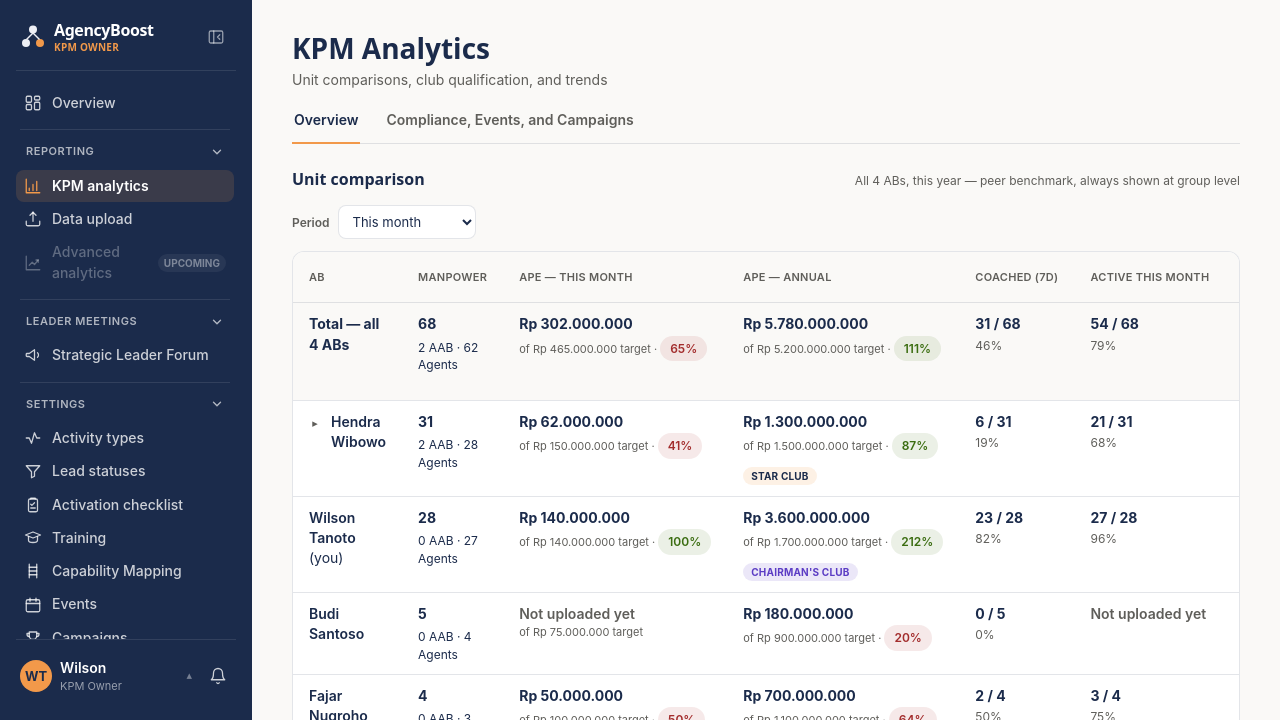
Scenario: KPM analytics (P18-T2) › AC-2 the table, verbatim › expands an agency into its (Direct) row tagged AB and its AAB rows tagged AAB, with a button saying so
The image size is (1280, 720).
Check: the element "Hendra Wibowo (Direct)" is not shown
Click the button named "Units in Hendra Wibowo’s agency": (315, 424) [303, 412, 327, 436]
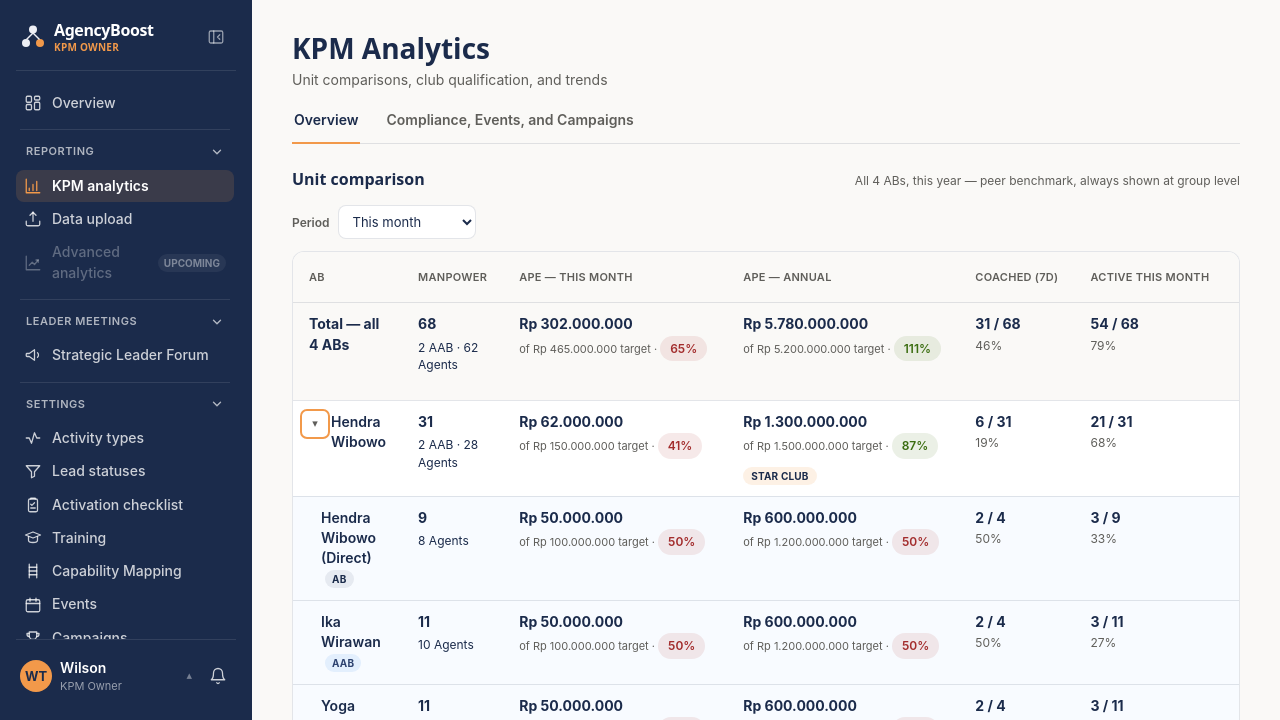
Check: the button named "Units in Hendra Wibowo’s agency" is expanded
Check: the text "AB" is shown, box [325, 570, 354, 588]
Check: the text "8 Agents" is shown, box [418, 533, 469, 548]
Click the button named "Units in Hendra Wibowo’s agency": (315, 424) [303, 412, 327, 436]
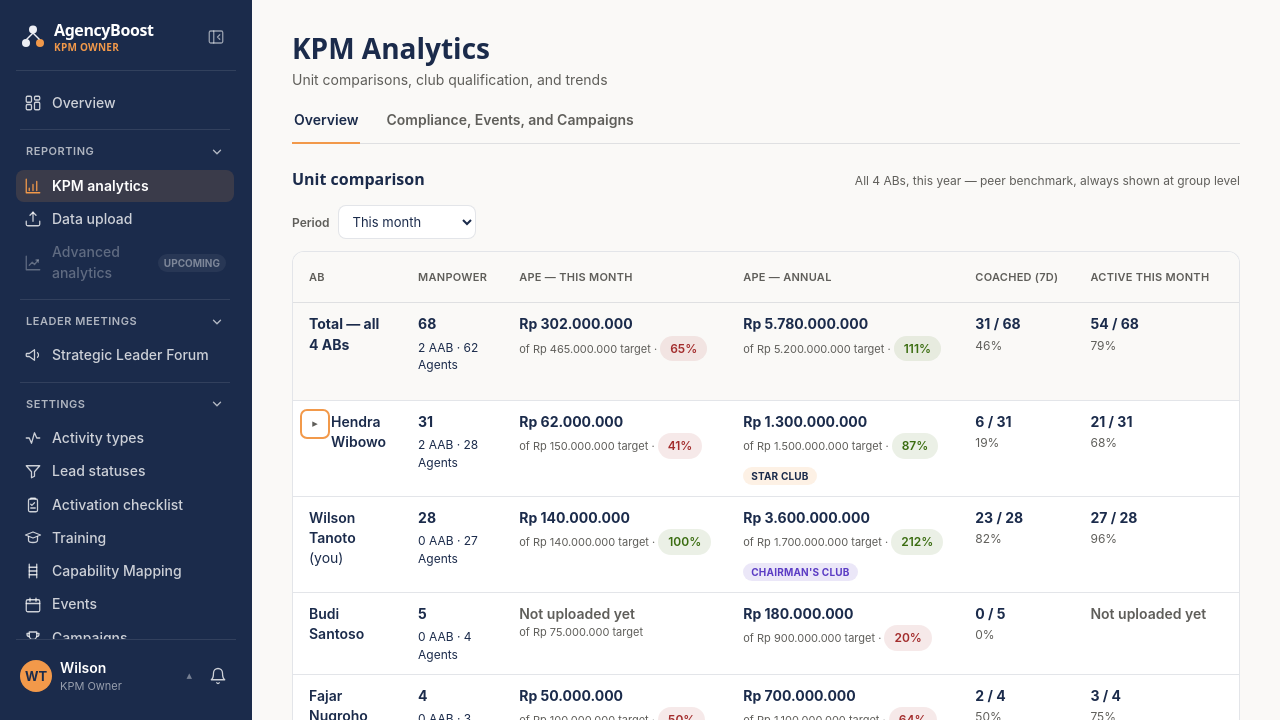
Check: the link "Hendra Wibowo (Direct)" is gone
